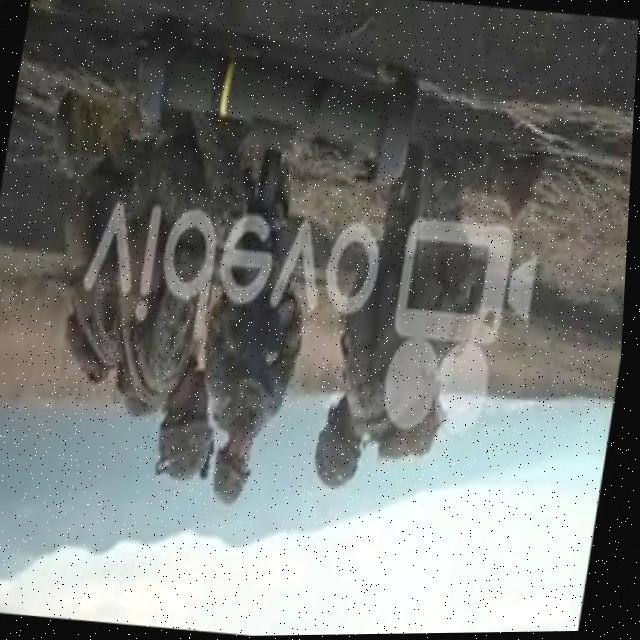rocket: (128, 13, 425, 195)
